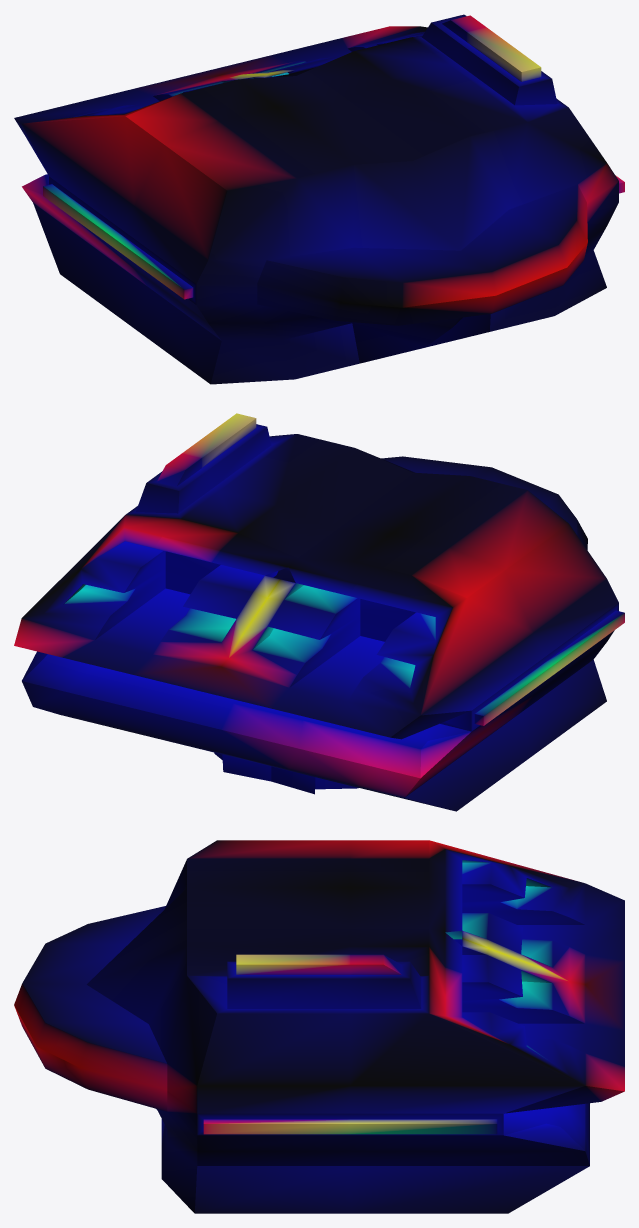
File: wpn_turret_02.fbx
3 views of the same model, one above another, from view 1: azimuth 30°, elevation 25°; view 2: azimuth 150°, elevation 25°; view 3: azimuth 270°, elevation 25° (orthographic). The views are drawn at different scales.
Visible parts, largest first — view 1: wpn_turret_02; view 2: wpn_turret_02; view 3: wpn_turret_02.
Part boxes in pixels (x1,y1,x2,y2): wpn_turret_02: [14, 14, 624, 384]; wpn_turret_02: [14, 413, 624, 811]; wpn_turret_02: [14, 840, 624, 1213].
Size of the model in its own units: 719 by 382 by 830.
